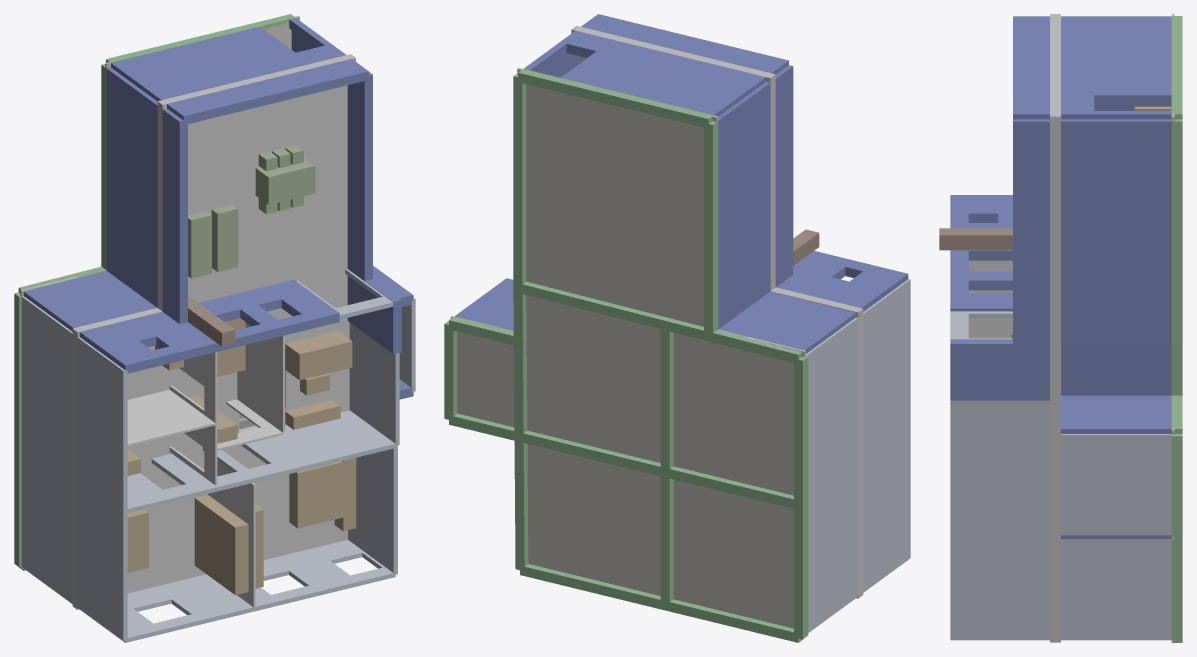
Rendered from dos_plantas.glb.
3 renders of one model, left to right at view 1: azimuth 30°, elevation 25°; view 2: azimuth 150°, elevation 25°; view 3: azimuth 270°, elevation 25°, orthographic. The views are drawn at different scales.
Parts seen in each view (by area): view 1: forjado, PA_muros_14cm, muros_29cm, PA_mobiliario, muros_14cm, antepecho_terraza, PA_tabiques_7cm, PA_muros_29cm, terraza_mobiliario, zunchos, chimenea_sube, solera; view 2: solera, zunchos, muros_29cm, muros_14cm, PA_muros_14cm, antepecho_terraza, forjado, PA_muros_29cm, chimenea_sube; view 3: muros_29cm, PA_muros_14cm, muros_14cm, antepecho_terraza, PA_muros_29cm, zunchos, forjado, chimenea_sube, PA_tabiques_7cm.
Part boxes in pixels (x1,y1,x2,y2): forjado: (72,54,355,609); PA_muros_14cm: (77,269,399,642); muros_29cm: (23,18,413,399); PA_mobiliario: (127,318,356,595); muros_14cm: (21,296,415,603); antepecho_terraza: (162,59,372,323); PA_tabiques_7cm: (127,322,284,607); PA_muros_29cm: (79,269,401,373); terraza_mobiliario: (188,145,315,278); zunchos: (14,14,295,570); chimenea_sube: (188,295,235,346); solera: (20,16,299,568); solera: (450,68,805,628); zunchos: (444,69,808,642); muros_29cm: (454,30,855,353); muros_14cm: (805,317,858,632); PA_muros_14cm: (863,279,910,592); antepecho_terraza: (581,14,793,286); forjado: (571,25,863,598); PA_muros_29cm: (776,251,908,311); chimenea_sube: (793,229,819,265); muros_29cm: (1061,16,1171,538); PA_muros_14cm: (950,311,1049,640); muros_14cm: (1061,434,1171,640); antepecho_terraza: (1013,16,1049,343); PA_muros_29cm: (950,195,1049,400); zunchos: (1171,16,1182,642); forjado: (1050,14,1060,642); chimenea_sube: (939,228,1012,250); PA_tabiques_7cm: (968,260,1012,338).
Bounding box in the file's own units: 11.85 × 15.85 × 6.6.
